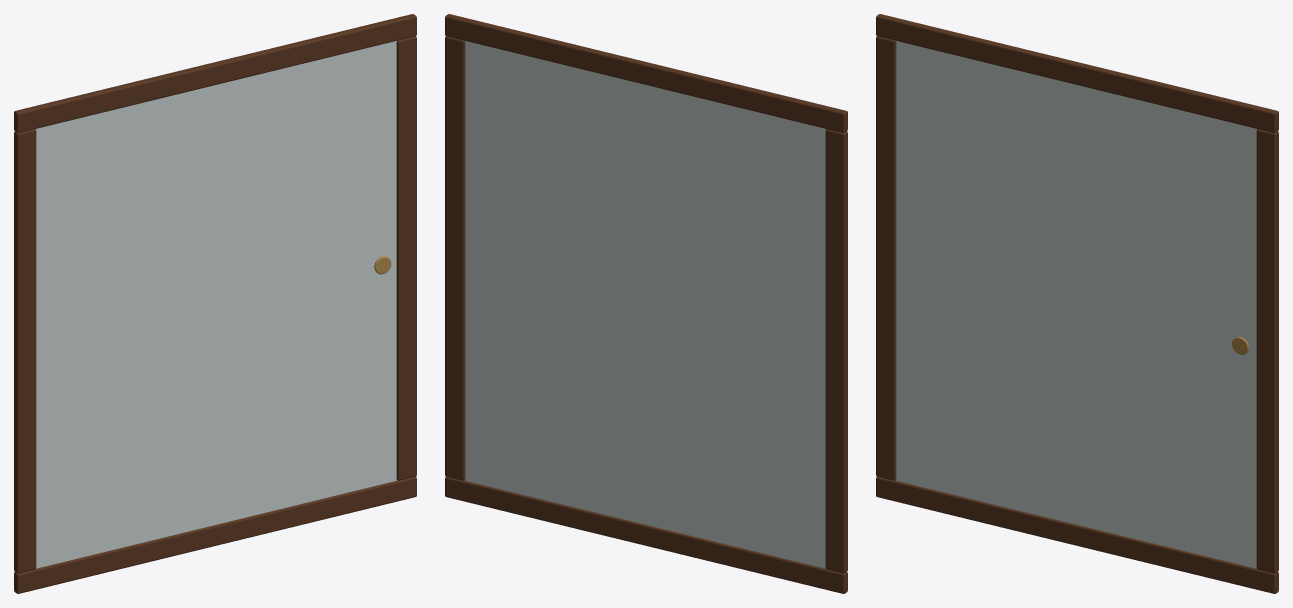
File: TuTV_CanhKinh_Phai.glb
3 views of the same model, side by side, from view 1: azimuth 30°, elevation 25°; view 2: azimuth 150°, elevation 25°; view 3: azimuth 330°, elevation 25° (orthographic).
Visible parts, largest first — view 1: geometry_0; view 2: geometry_0; view 3: geometry_0.
Boxes of the visible parts, x1=… form: geometry_0: x1=14, y1=14, x2=416, y2=593; geometry_0: x1=445, y1=14, x2=847, y2=593; geometry_0: x1=876, y1=14, x2=1278, y2=593.
Size of the model in its own units: 0.574 by 0.66 by 0.012.
